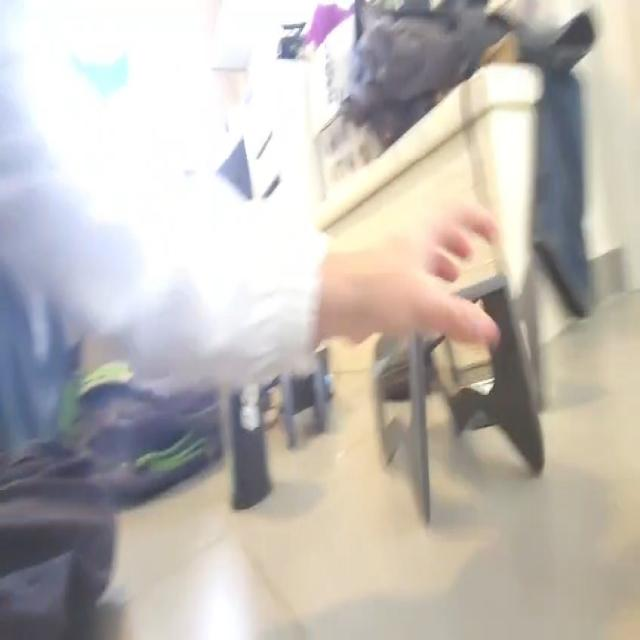Robot: (281, 375, 331, 450)
